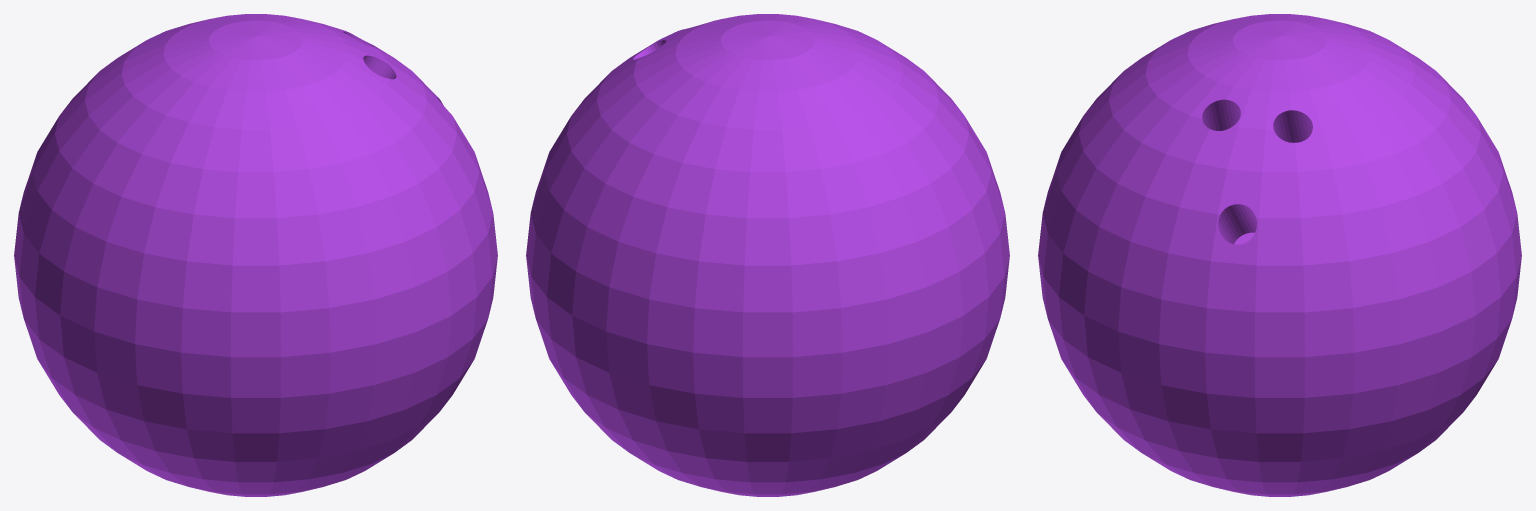
Rendered from Bowling 1.fbx.
3 renders of one model, left to right at view 1: azimuth 30°, elevation 25°; view 2: azimuth 150°, elevation 25°; view 3: azimuth 270°, elevation 25°, orthographic.
Parts seen in each view (by area): view 1: Sphere; view 2: Sphere; view 3: Sphere.
Boxes of the visible parts, x1=… form: Sphere: x1=14, y1=14, x2=497, y2=496; Sphere: x1=526, y1=14, x2=1009, y2=496; Sphere: x1=1038, y1=14, x2=1521, y2=496.
Bounding box in the file's own units: 199 × 200 × 200.
